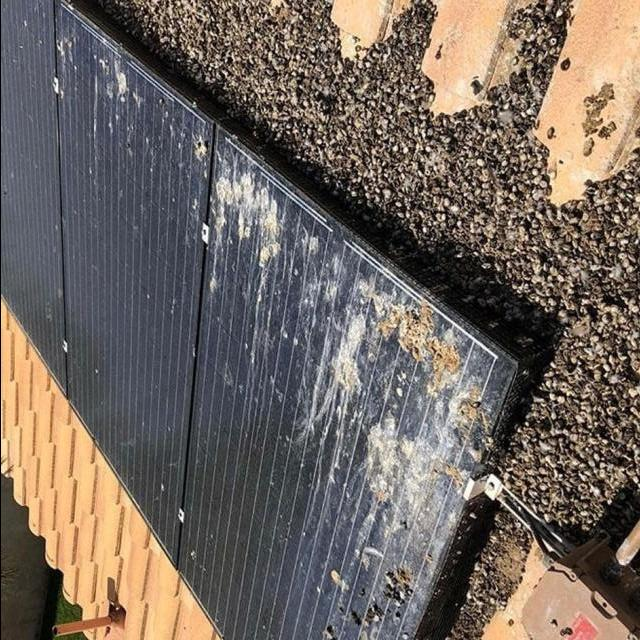soiled: (4, 7, 514, 630)
